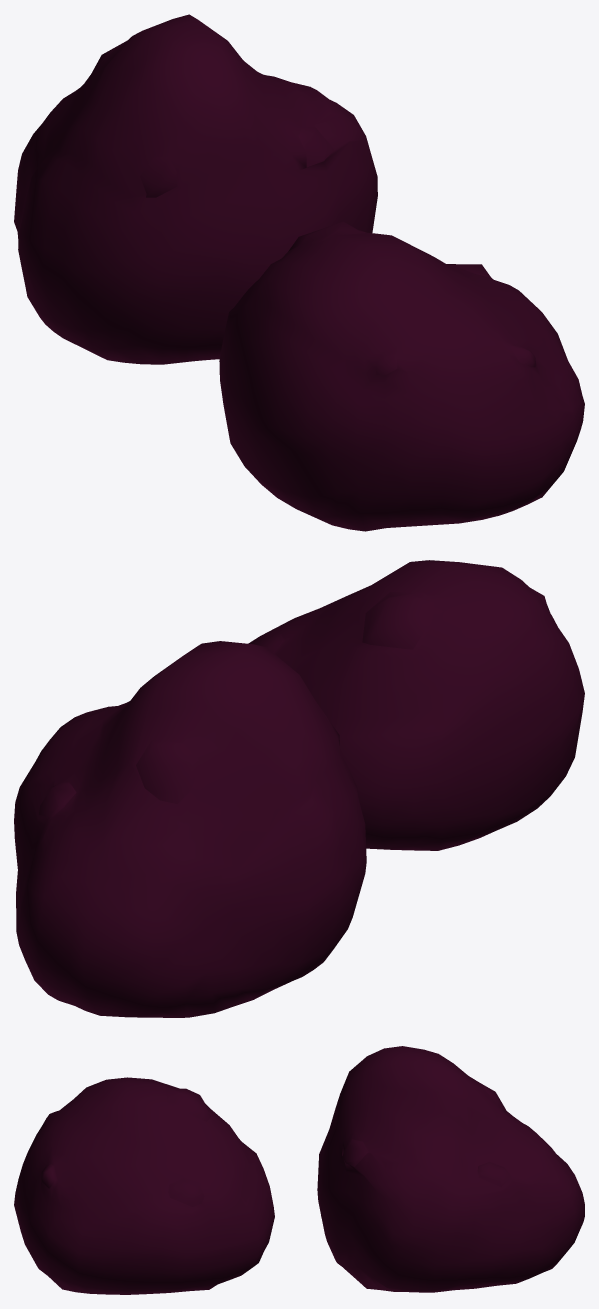
The model's file is meteorite.fbx.
3 views of the same model, one above another, from view 1: azimuth 30°, elevation 25°; view 2: azimuth 150°, elevation 25°; view 3: azimuth 270°, elevation 25° (orthographic). The views are drawn at different scales.
Parts seen in each view (by area): view 1: meteorite1, meteorite2; view 2: meteorite2, meteorite1; view 3: meteorite2, meteorite1.
Boxes of the visible parts, x1,y1,x2,y2 form: meteorite1: (219, 221, 584, 531); meteorite2: (14, 14, 377, 364); meteorite2: (14, 641, 366, 1017); meteorite1: (248, 560, 584, 850); meteorite2: (317, 1046, 584, 1292); meteorite1: (14, 1077, 274, 1294).
Bounding box in the file's own units: 1.91 × 1.71 × 4.3.
